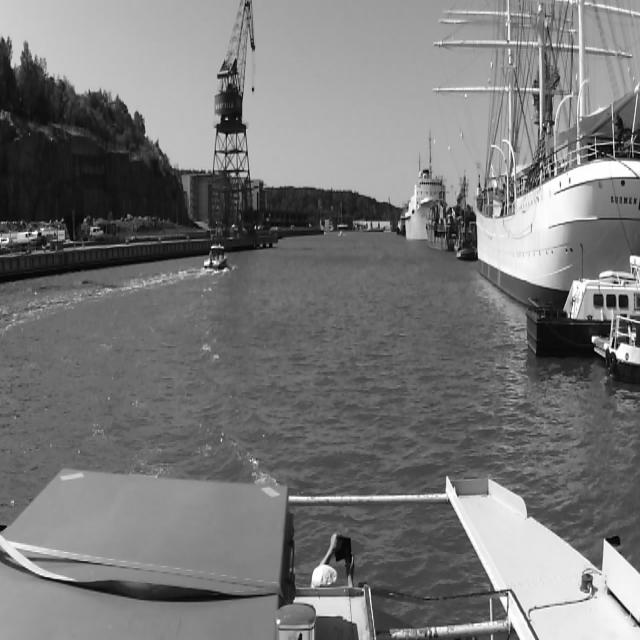ship: (428, 4, 640, 274), (514, 277, 640, 377), (402, 157, 430, 245), (204, 244, 230, 274), (339, 230, 343, 237)
